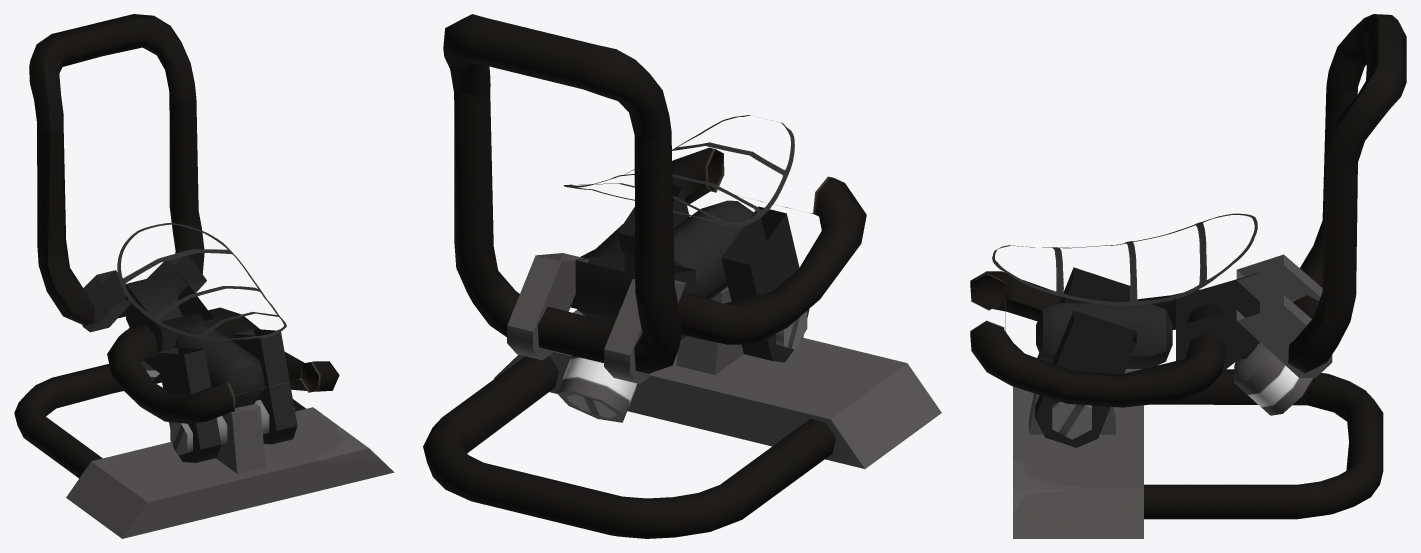
The model's file is obj_interactive_saddle_01.fbx.
3 views of the same model, side by side, from view 1: azimuth 30°, elevation 25°; view 2: azimuth 150°, elevation 25°; view 3: azimuth 270°, elevation 25° (orthographic). The views are drawn at different scales.
Visible parts, largest first — view 1: obj_interactive_saddle_01; view 2: obj_interactive_saddle_01; view 3: obj_interactive_saddle_01.
Part boxes in pixels (left/top/right/bottom): obj_interactive_saddle_01: left=14, top=14, right=394, bottom=538; obj_interactive_saddle_01: left=423, top=14, right=941, bottom=538; obj_interactive_saddle_01: left=970, top=14, right=1406, bottom=538.
Size of the model in its own units: 2.77 by 3.52 by 3.32.
